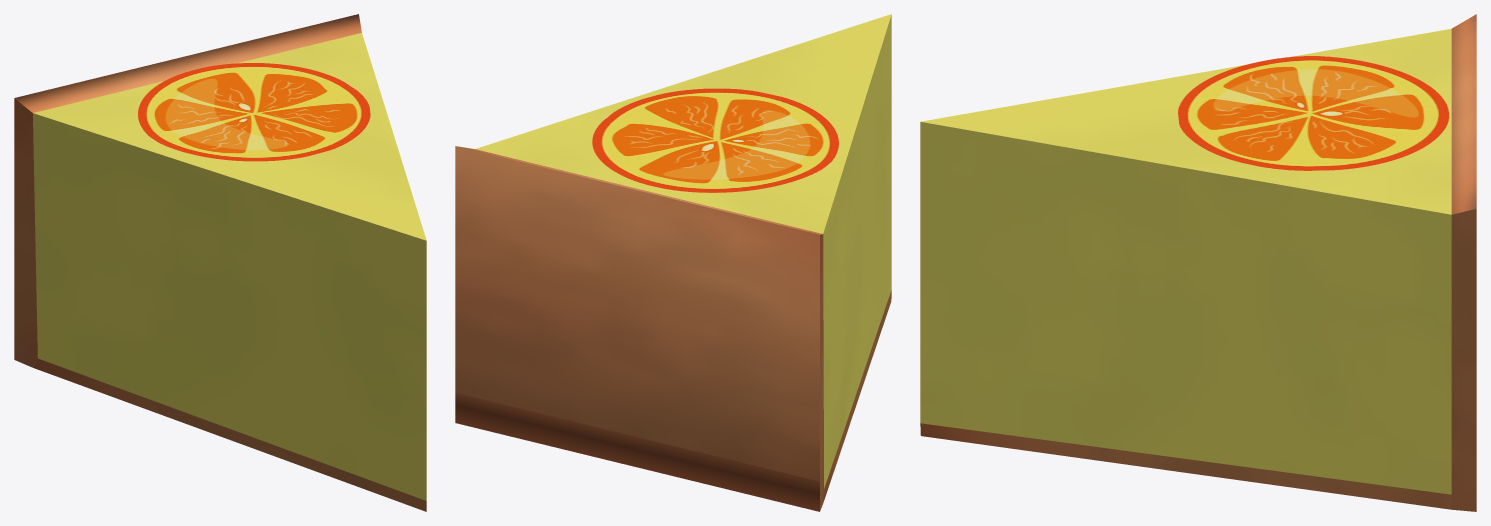
The model's file is Cheesecake_Slice_A_3.FBX.
The picture shows the model from 3 angles, left to right: view 1: azimuth 30°, elevation 25°; view 2: azimuth 150°, elevation 25°; view 3: azimuth 270°, elevation 25°; orthographic projection. The views are drawn at different scales.
Visible parts, largest first — view 1: Cheesecake_Slice; view 2: Cheesecake_Slice; view 3: Cheesecake_Slice.
Part boxes in pixels (bbox=[...]): Cheesecake_Slice: bbox=[14, 14, 426, 511]; Cheesecake_Slice: bbox=[455, 14, 891, 511]; Cheesecake_Slice: bbox=[920, 14, 1476, 511].
Size of the model in its own units: 32.61 by 25.35 by 39.37.
